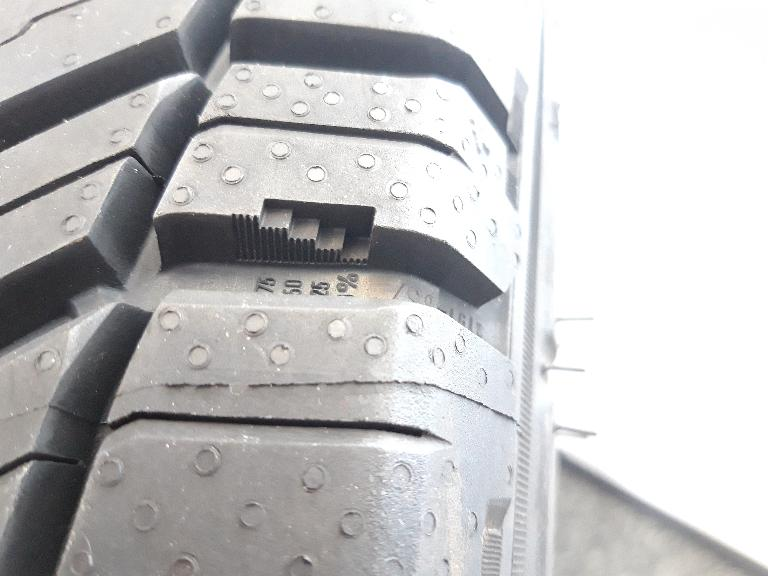temoin:100: (224, 191, 388, 279)
